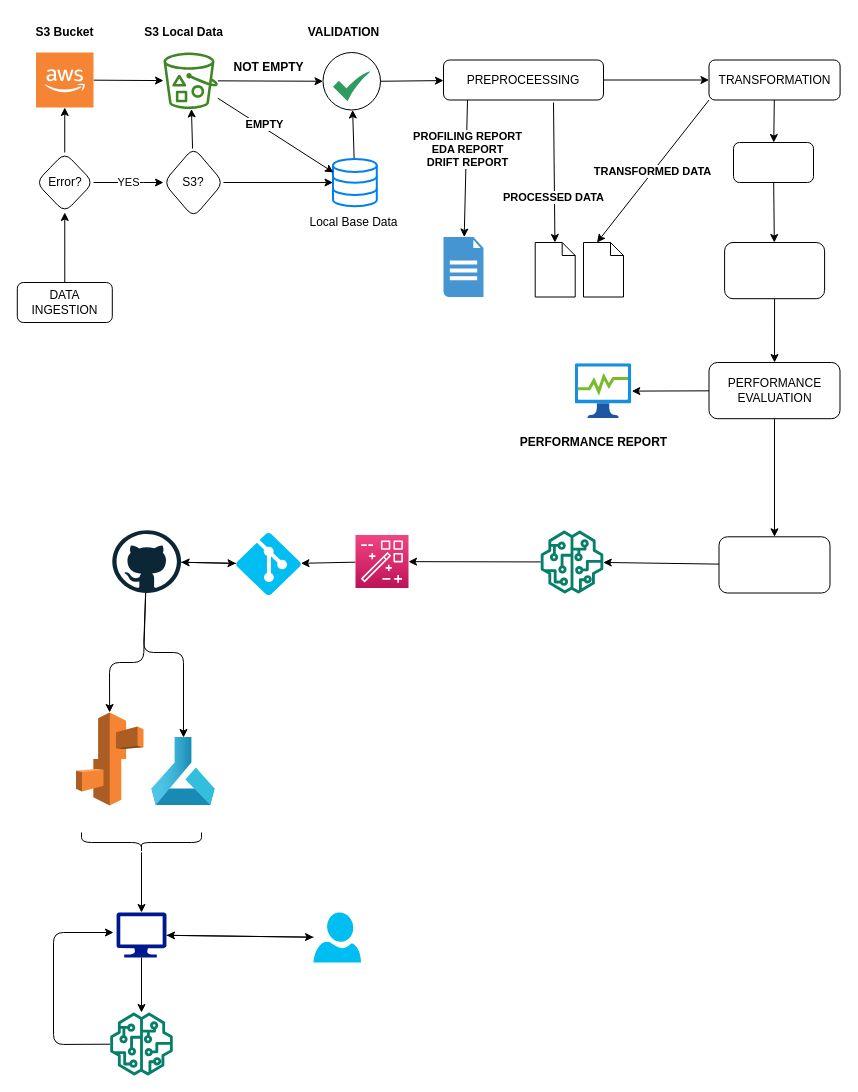
The diagram is 858 pixels wide and 1092 high, and some of its shapes have lost their labels. Each missing label, with the centre of its shape:
"MODEL EVALUATION" goes at (x=774, y=270).
"MODEL PUSH" goes at (x=774, y=564).
"TRAINER" goes at (x=773, y=162).
